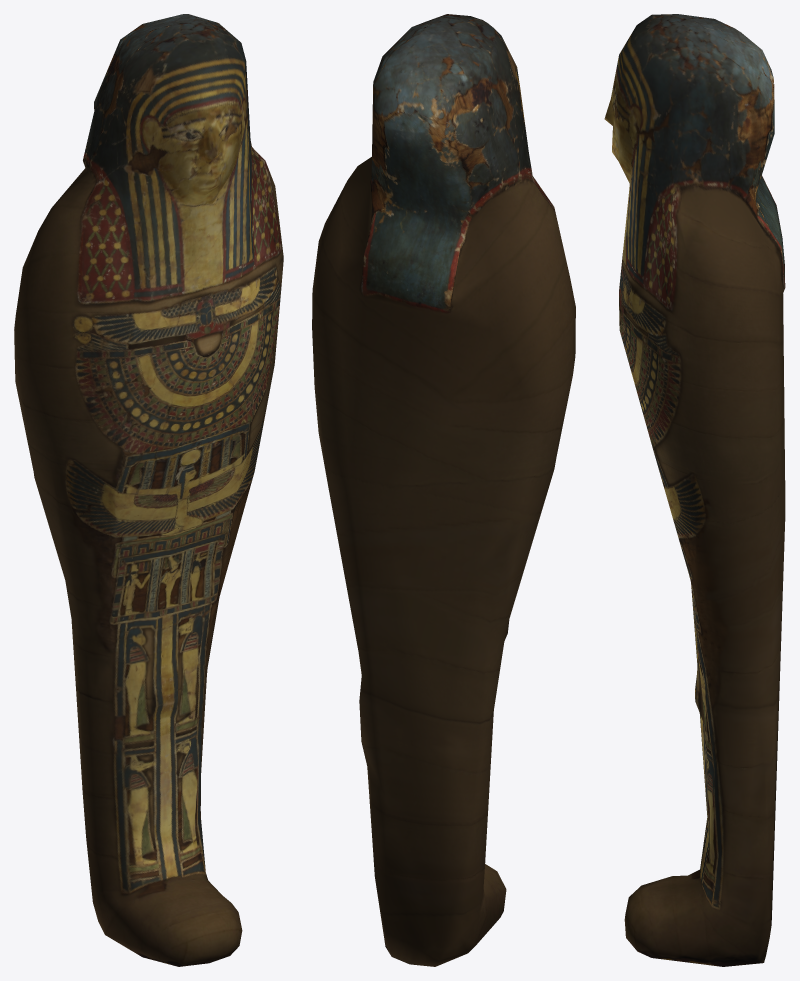
File: Aset_Iri_Khet_Sarcophagus_Coating.fbx
3 renders of one model, left to right at view 1: azimuth 30°, elevation 25°; view 2: azimuth 150°, elevation 25°; view 3: azimuth 270°, elevation 25°, orthographic. The views are drawn at different scales.
Visible parts, largest first — view 1: Aset_Iri_Khet_Sarcophagus_Coating_LOD0; view 2: Aset_Iri_Khet_Sarcophagus_Coating_LOD0; view 3: Aset_Iri_Khet_Sarcophagus_Coating_LOD0.
Boxes of the visible parts, x1,y1,x2,y2 form: Aset_Iri_Khet_Sarcophagus_Coating_LOD0: (14,14,283,966); Aset_Iri_Khet_Sarcophagus_Coating_LOD0: (312,14,575,966); Aset_Iri_Khet_Sarcophagus_Coating_LOD0: (604,14,785,966).
Size of what is drawn, in the model's own units: 39.18 by 140 by 24.48.
Materials: 1 (1 with a texture image).
